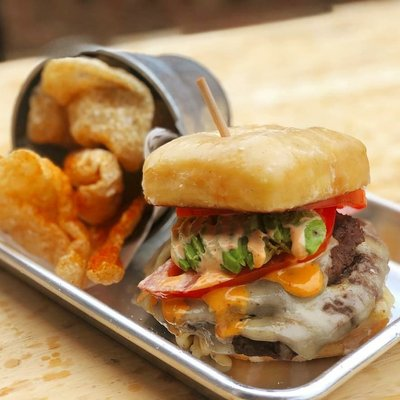soup: (135, 123, 387, 364)
